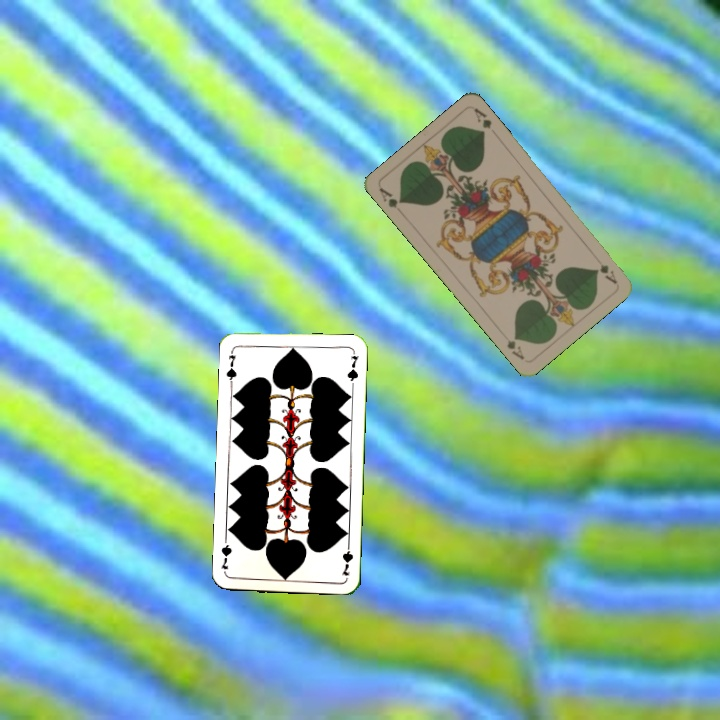G7: (338, 538, 356, 578), (222, 346, 239, 386)
GA: (375, 184, 406, 211), (596, 260, 619, 286)
